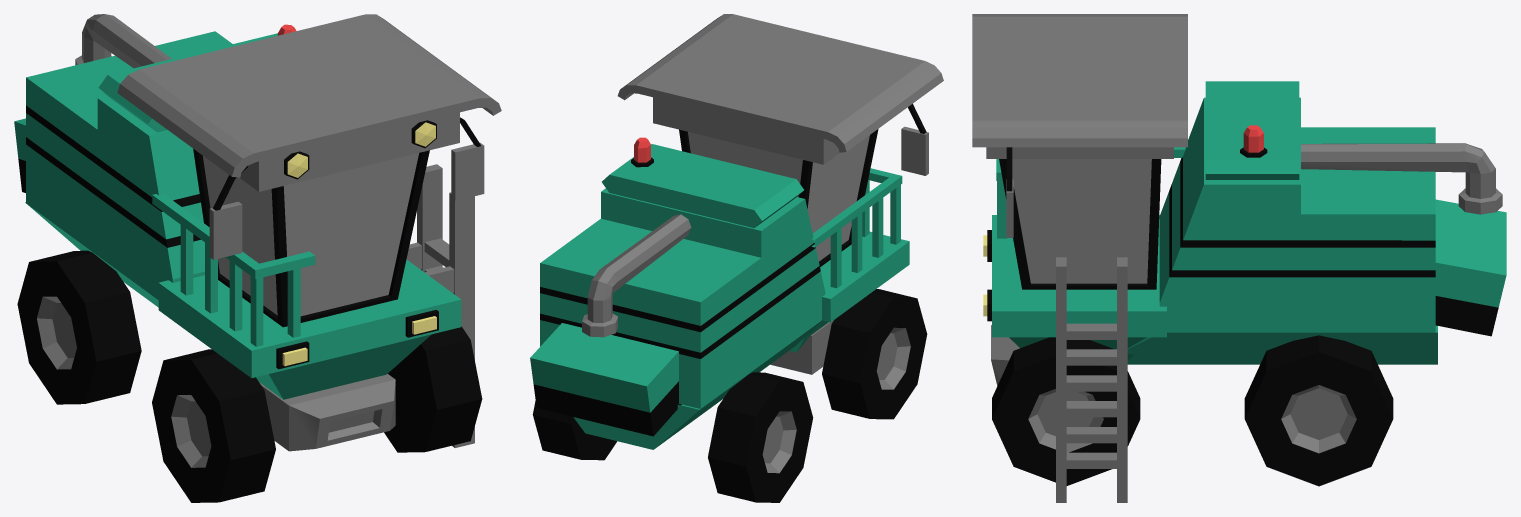
Rendered from harvester tractor_1.FBX.
3 renders of one model, left to right at view 1: azimuth 30°, elevation 25°; view 2: azimuth 150°, elevation 25°; view 3: azimuth 270°, elevation 25°, orthographic. The views are drawn at different scales.
Visible parts, largest first — view 1: harvester tractor_1; view 2: harvester tractor_1; view 3: harvester tractor_1.
Boxes of the visible parts, x1,y1,x2,y2 form: harvester tractor_1: (14, 14, 501, 502); harvester tractor_1: (530, 14, 943, 502); harvester tractor_1: (972, 14, 1506, 502).
Bounding box in the file's own units: 2.9 × 3.73 × 4.95.
Materials: 2 (1 with a texture image).
